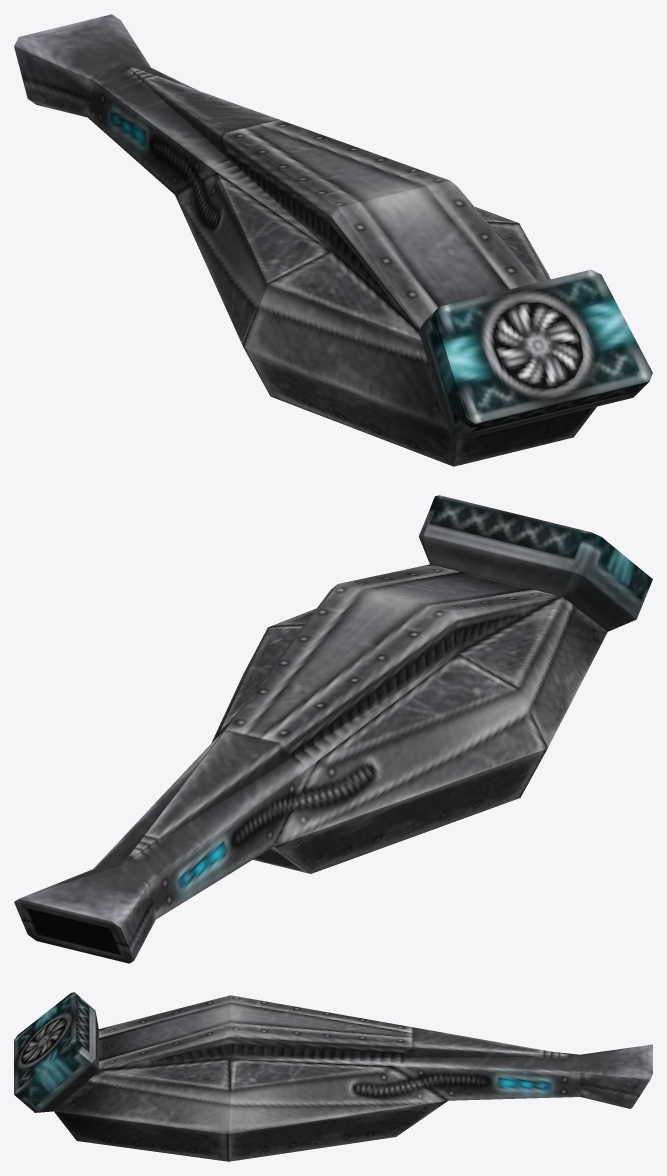
File: freeze.glb
3 views of the same model, one above another, from view 1: azimuth 30°, elevation 25°; view 2: azimuth 150°, elevation 25°; view 3: azimuth 270°, elevation 25° (orthographic). The views are drawn at different scales.
Visible parts, largest first — view 1: turret, fan; view 2: turret; view 3: turret, fan.
Boxes of the visible parts, x1=… form: turret: x1=14, y1=14, x2=652, y2=466; fan: x1=493, y1=302, x2=583, y2=388; turret: x1=14, y1=495, x2=652, y2=963; turret: x1=14, y1=992, x2=652, y2=1161; fan: x1=21, y1=1017, x2=65, y2=1063.
Bounding box in the file's own units: 177 × 95.2 × 502.
Materials: 1 (1 with a texture image).
